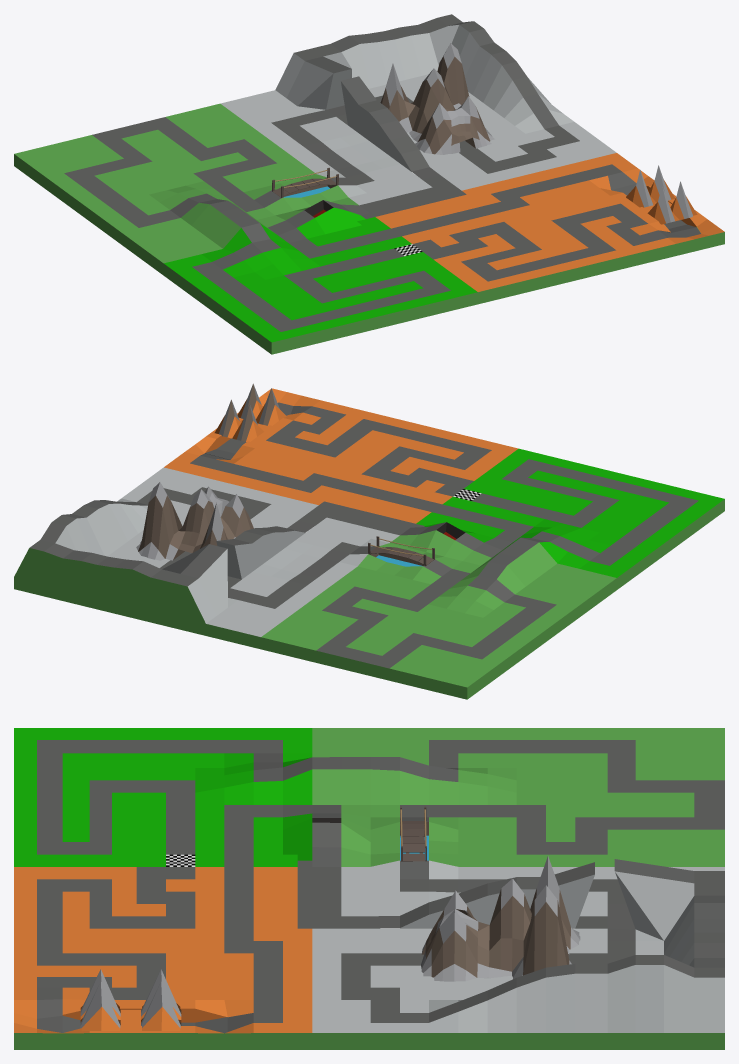
File: sceneCourseMModifies.fbx
3 renders of one model, top to bottom at view 1: azimuth 30°, elevation 25°; view 2: azimuth 150°, elevation 25°; view 3: azimuth 270°, elevation 25°, orthographic. The views are drawn at different scales.
Parts seen in each view (by area): view 1: Plane, Mountain, MountainUnder; view 2: Plane, Mountain, MountainUnder; view 3: Plane, Mountain, MountainUnder.
Part boxes in pixels (x1,y1,x2,y2): Plane: (14, 14, 724, 354); Mountain: (380, 43, 494, 154); MountainUnder: (626, 165, 697, 224); Plane: (14, 388, 724, 699); Mountain: (136, 482, 253, 560); MountainUnder: (214, 383, 286, 441); Plane: (14, 728, 724, 1049); Mountain: (421, 856, 580, 981); MountainUnder: (80, 969, 181, 1031).
Bounding box in the file's own units: 14586 × 2675 × 14363.
